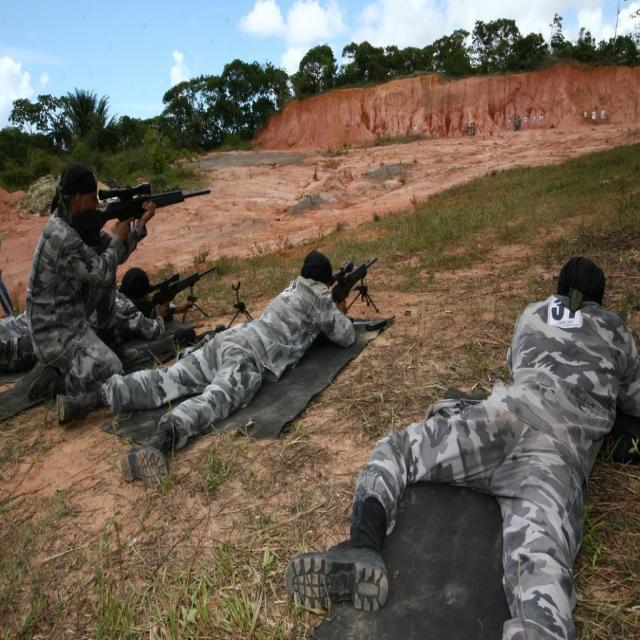weapon: (71, 183, 211, 240), (140, 268, 216, 326), (330, 260, 378, 324)
